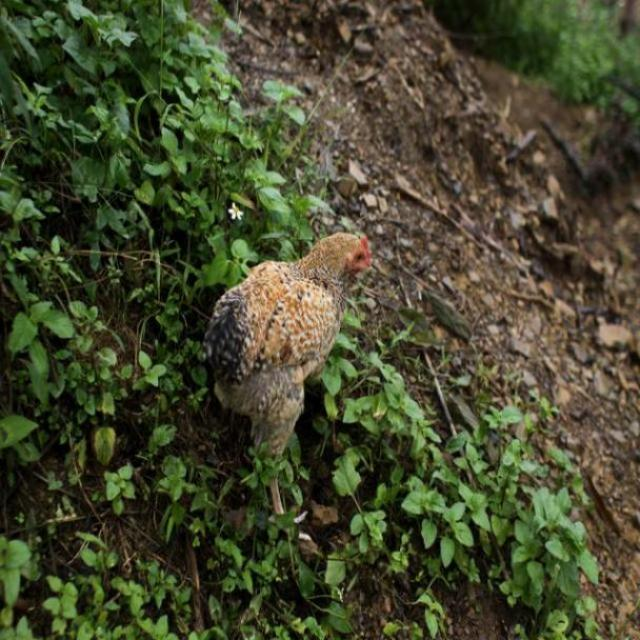Chicken: (190, 229, 382, 507)
